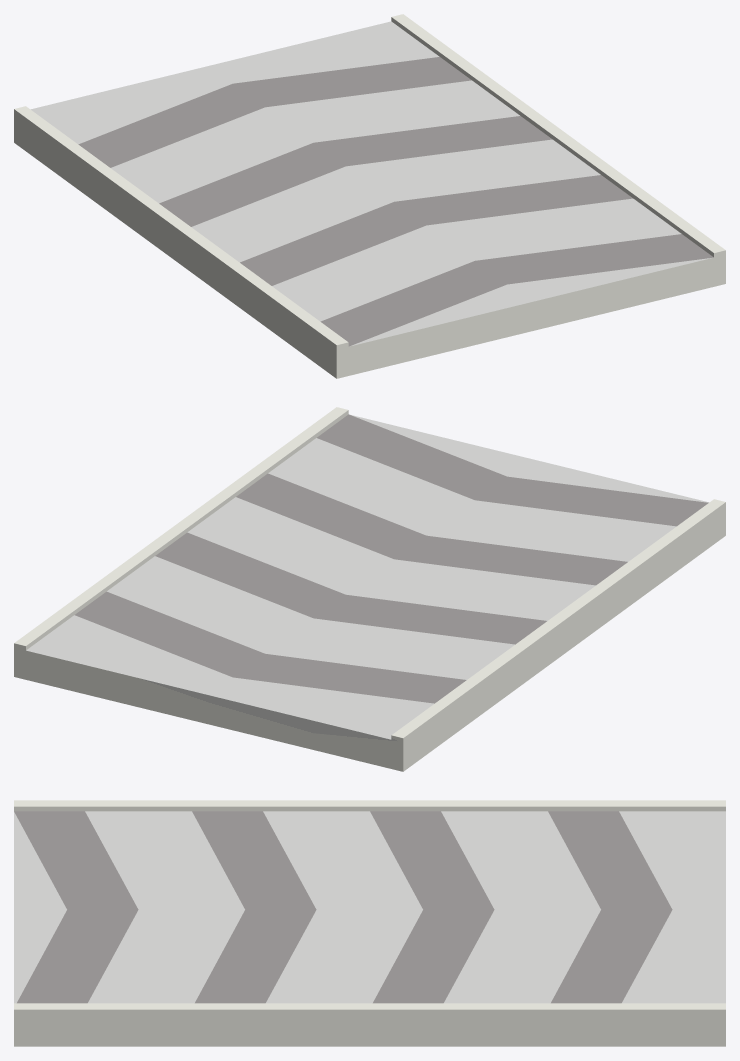
Rendered from platform_main.fbx.
The picture shows the model from 3 angles, top to bottom: view 1: azimuth 30°, elevation 25°; view 2: azimuth 150°, elevation 25°; view 3: azimuth 270°, elevation 25°; orthographic projection. The views are drawn at different scales.
Parts seen in each view (by area): view 1: Platform; view 2: Platform; view 3: Platform.
Part boxes in pixels (bbox=[...]): Platform: bbox=[14, 14, 725, 378]; Platform: bbox=[14, 407, 725, 771]; Platform: bbox=[14, 800, 725, 1046].
Bounding box in the file's own units: 27.84 × 2.3 × 39.98.
1 material, 1 textured.
